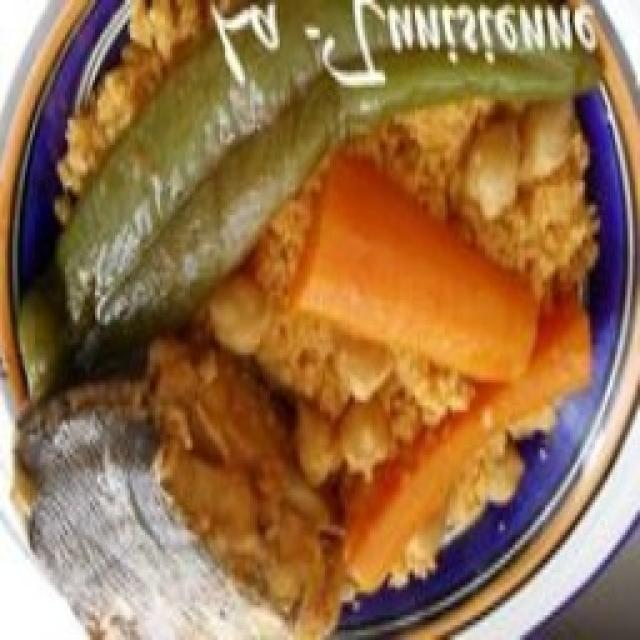Couscous: (16, 1, 598, 636)
